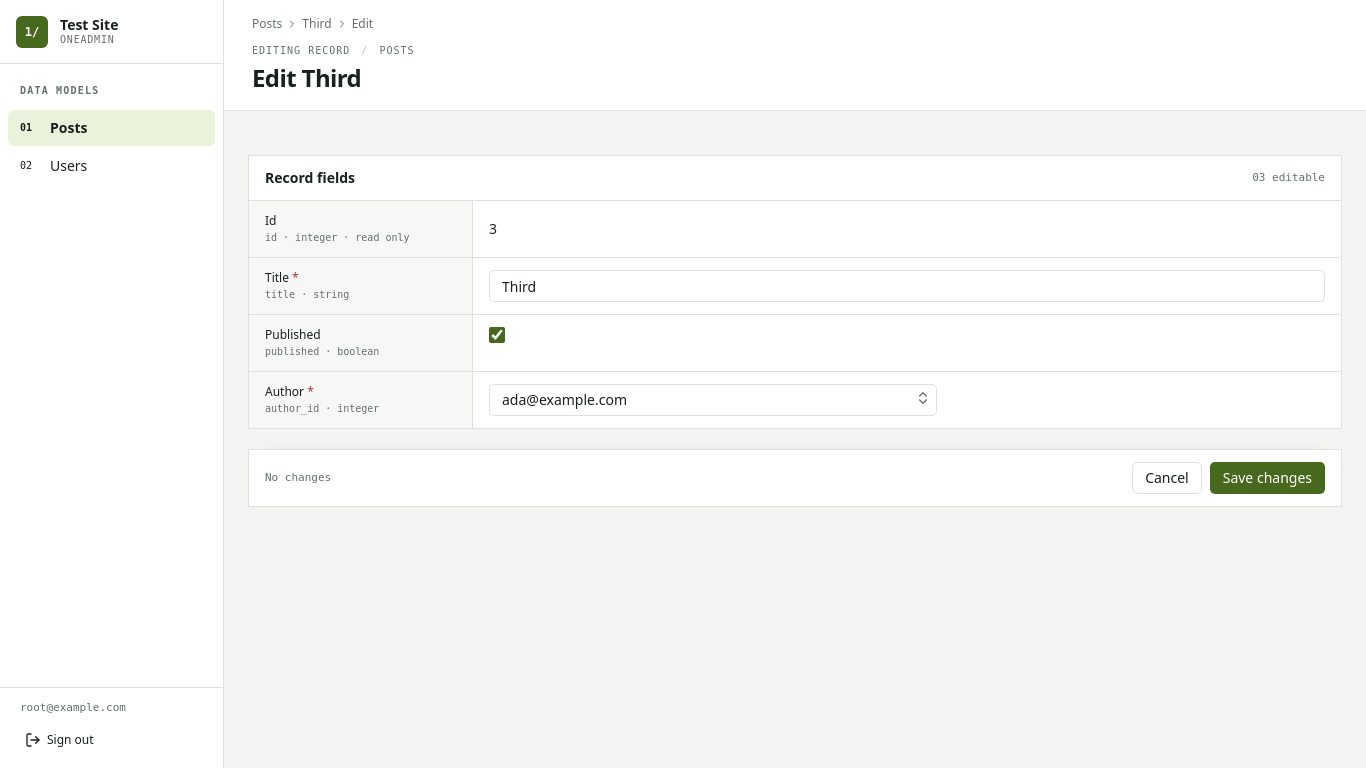
Test case: editing › shows server validation errors next to their fields
Step 1. Type "!" into the field labelled "Title *" → (907, 286), box [489,270,1325,302]
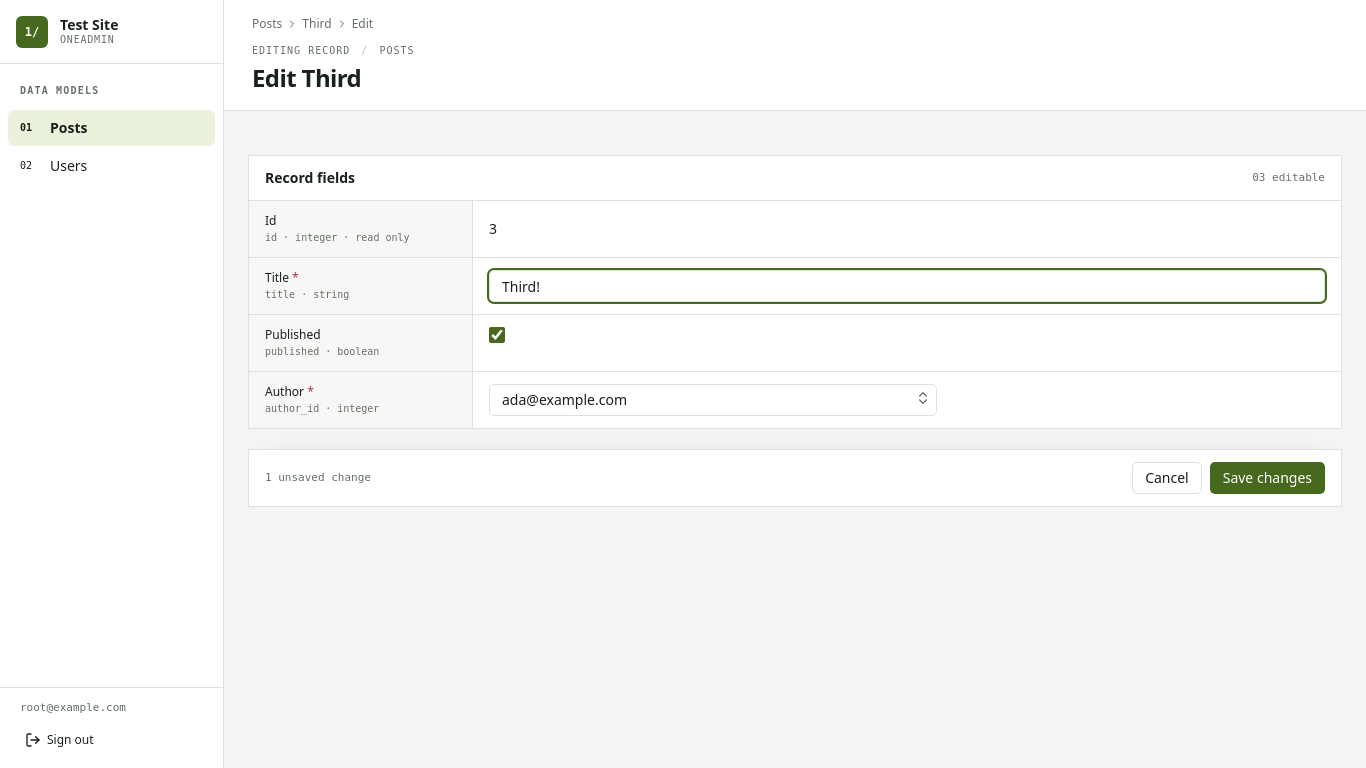
Step 2. Click the button "Save changes" → (1267, 478), box [1210,462,1325,494]
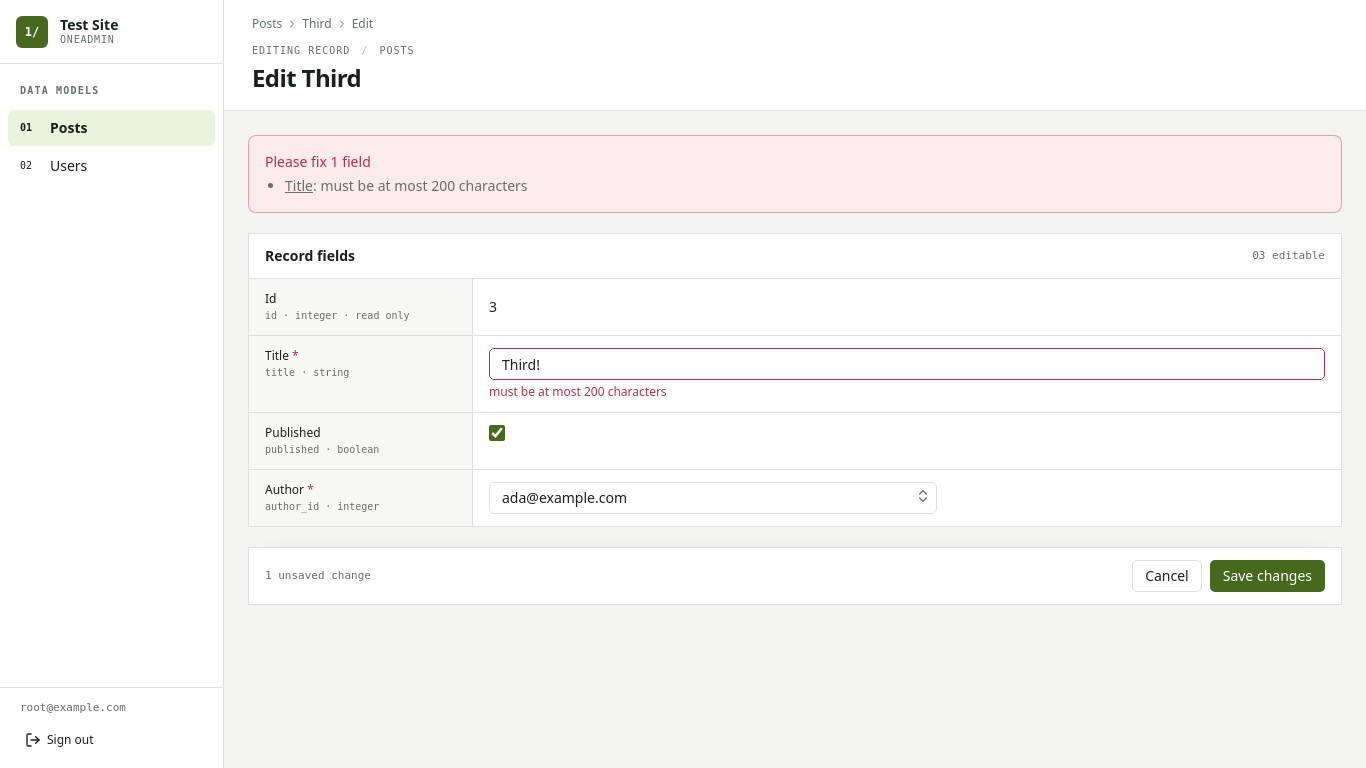
Expected: the text "Please fix 1 field" is shown, [265,152,371,171]
